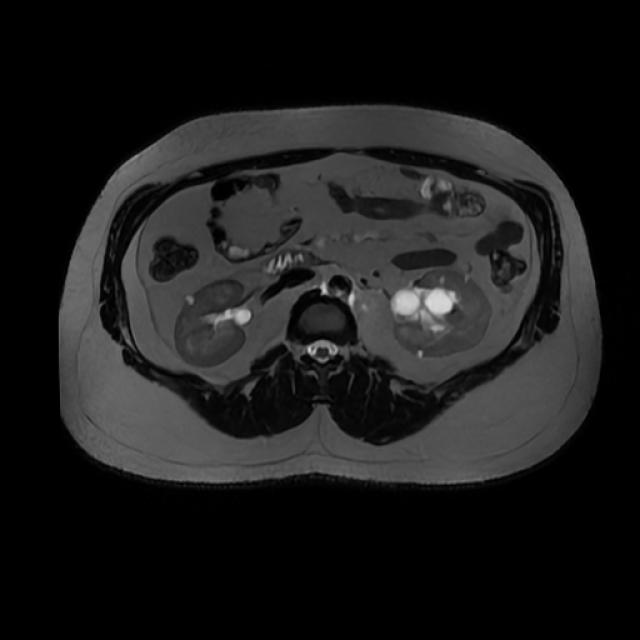sag: (171, 277, 254, 369)
sol: (388, 267, 493, 360)
